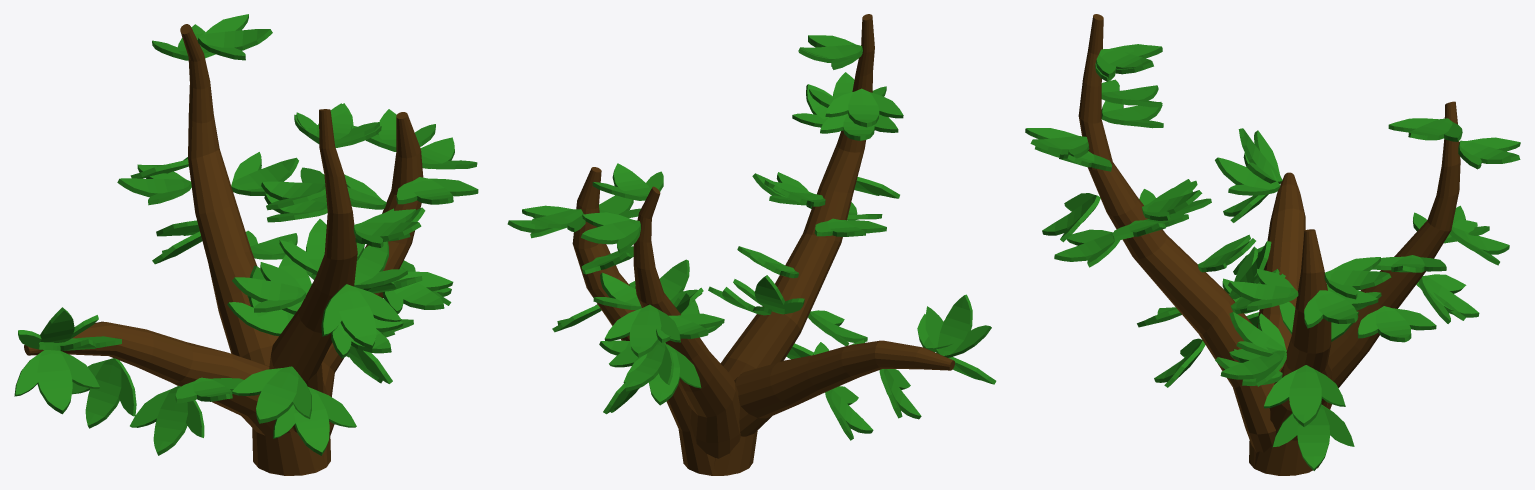
Rendered from Arbusto1Hoja2.fbx.
3 views of the same model, side by side, from view 1: azimuth 30°, elevation 25°; view 2: azimuth 150°, elevation 25°; view 3: azimuth 270°, elevation 25° (orthographic). The views are drawn at different scales.
Parts seen in each view (by area): view 1: RamasArbusto1Hoja2; view 2: RamasArbusto1Hoja2; view 3: RamasArbusto1Hoja2.
Part boxes in pixels (bbox=[...]): RamasArbusto1Hoja2: bbox=[14, 14, 478, 475]; RamasArbusto1Hoja2: bbox=[507, 14, 996, 475]; RamasArbusto1Hoja2: bbox=[1025, 14, 1520, 475].
Size of the model in its own units: 145 by 124 by 135.
